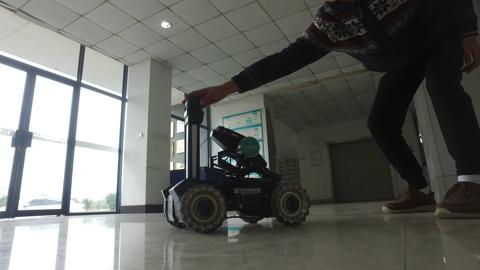chariot: (155, 87, 317, 236)
